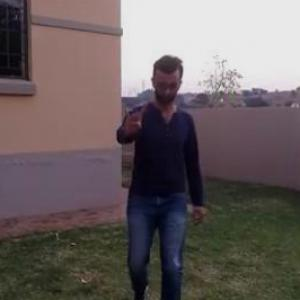takeoff-hand: (116, 94, 146, 142)
